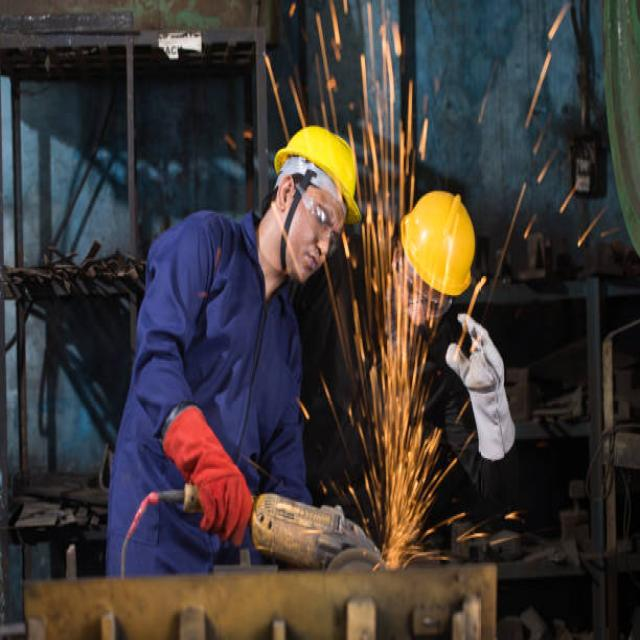without_helmet: (255, 174, 345, 288), (391, 244, 465, 339)
